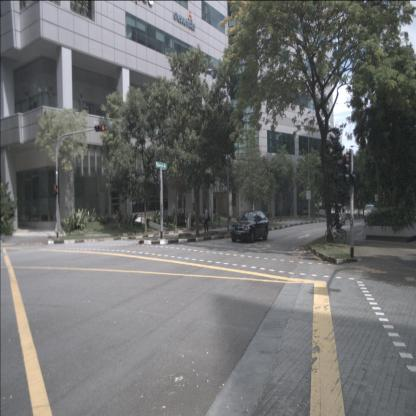human-pedestrian-adult: (203, 205, 211, 234)
vehicle-bicycle: (324, 219, 346, 245)
vehicle-car: (231, 210, 268, 243), (331, 204, 346, 226), (364, 205, 376, 223)
